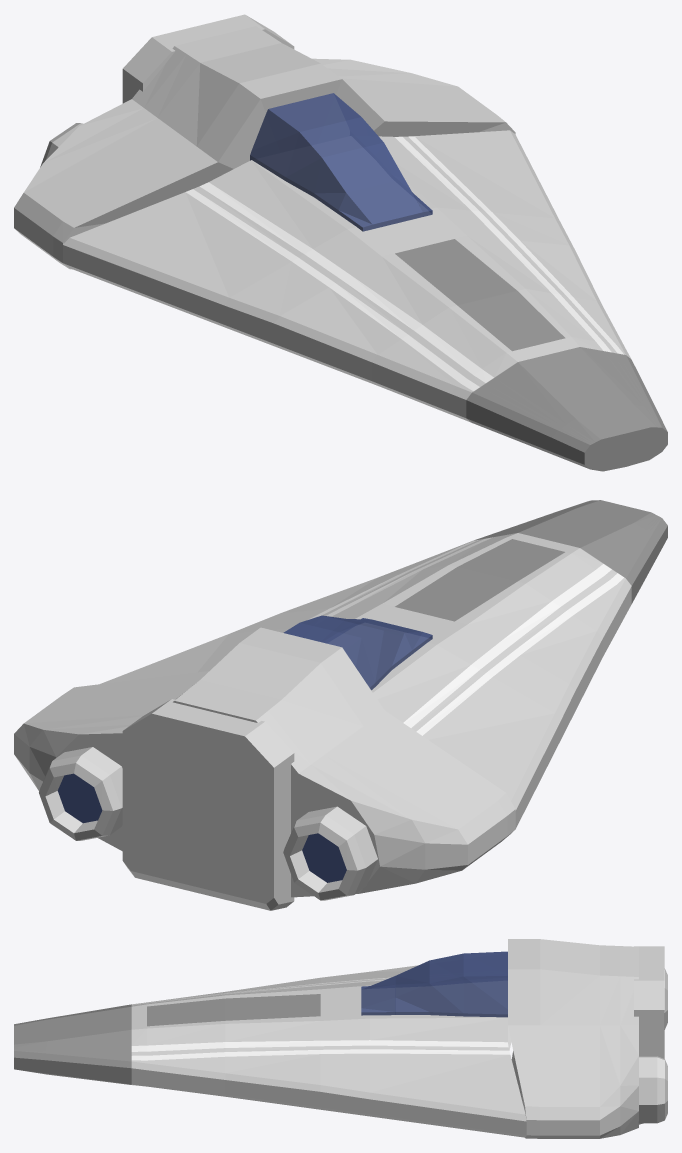
File: hull_needle.obj
3 views of the same model, one above another, from view 1: azimuth 30°, elevation 25°; view 2: azimuth 150°, elevation 25°; view 3: azimuth 270°, elevation 25° (orthographic). The views are drawn at different scales.
Bounding box in the file's own units: 2.34 × 0.96 × 3.84.
